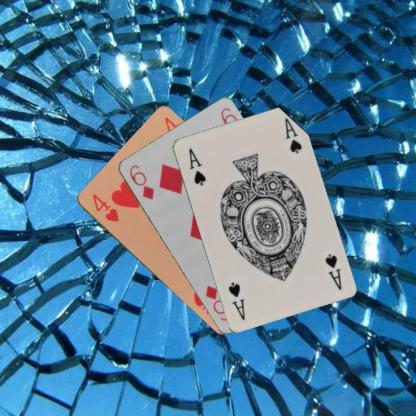4h: (89, 191, 120, 224)
6d: (126, 162, 155, 201)
As: (185, 146, 207, 186), (322, 251, 342, 291)
